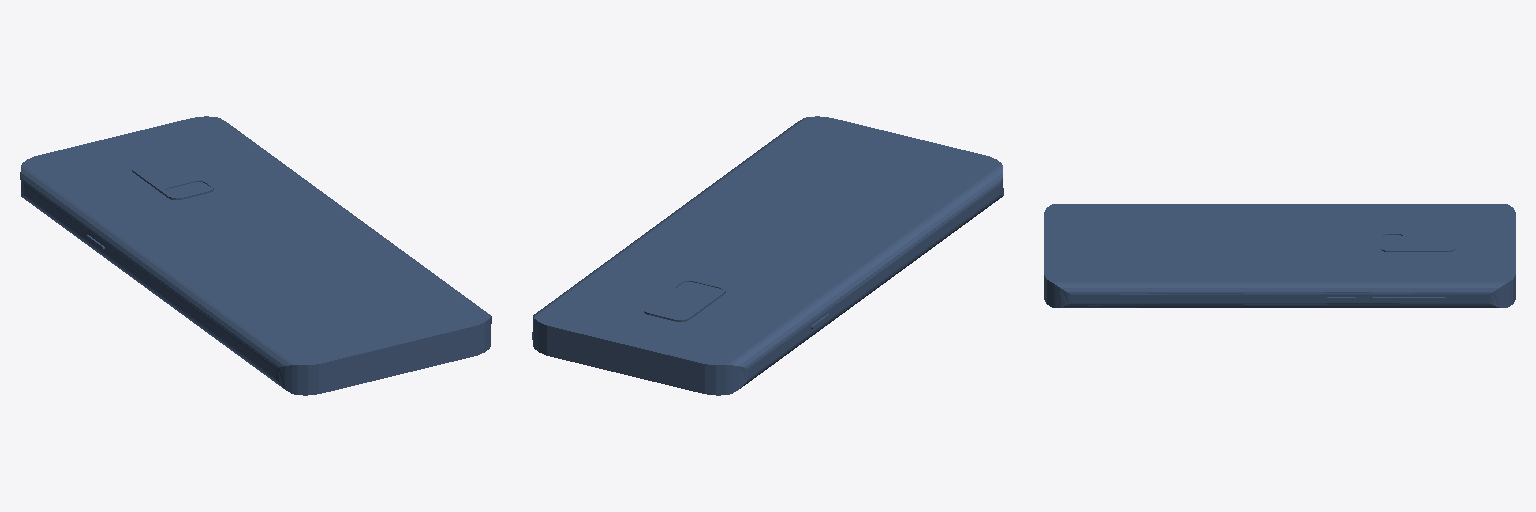
robot.urdf — phone_case:
<?xml version="1.0" encoding="utf-8"?>
<!-- This URDF was automatically created by SolidWorks to URDF Exporter! Originally created by [author] ([email redacted]) 
     Commit Version: 1.6.0-4-g7f85cfe  Build Version: 1.6.7995.38578
     For more information, please see http://wiki.ros.org/sw_urdf_exporter -->
<robot
  name="phone_case">
  <link
    name="phone_link">
    <inertial>
      <origin
        xyz="8.6317E-05 0.0019363 -0.0042424"
        rpy="0 0 0" />
      <mass
        value="1.075595" />
      <inertia
        ixx="0.00013142"
        ixy="-1.34E-08"
        ixz="2.7466E-12"
        iyy="2.4108E-05"
        iyz="-2.5124E-08"
        izz="0.00015463" />
    </inertial>
    <visual>
      <origin
        xyz="0 0 0"
        rpy="0 0 0" />
      <geometry>
        <mesh
          filename="package://phone_case/meshes/phone_link.STL" />
      </geometry>
      <material
        name="">
        <color
          rgba="0.32549 0.40784 0.52941 1" />
      </material>
    </visual>
    <collision>
      <origin
        xyz="0 0 0"
        rpy="0 0 0" />
      <geometry>
        <mesh
          filename="package://phone_case/meshes/phone_link.STL" />
      </geometry>
    </collision>
  </link>
      <gazebo reference="phone_link">
  	<material>Gazebo/Turquoise </material>
  </gazebo>
</robot>

--- Render facts (derived) ---
3 views of the same robot in one strip: view 1: azimuth 30°, elevation 25°; view 2: azimuth 150°, elevation 25°; view 3: azimuth 270°, elevation 25° (orthographic).
Robot: phone_case — 1 links, 0 joints (none); root link phone_link; default pose: every joint at zero.
Visible links, largest first — view 1: phone_link; view 2: phone_link; view 3: phone_link.
Link boxes in pixels (x1=…): phone_link: x1=20, y1=116, x2=491, y2=395; phone_link: x1=532, y1=116, x2=1003, y2=395; phone_link: x1=1044, y1=204, x2=1515, y2=307.
Bounding box of the posed robot: 0.0635 × 0.145 × 0.009 m (x, y, z).
1 mesh visuals loaded from 1 distinct referenced files (1 binary STL).